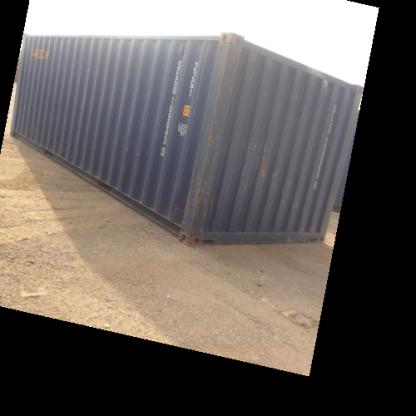Damage: (190, 96, 221, 228), (248, 154, 287, 205), (67, 52, 105, 74)
